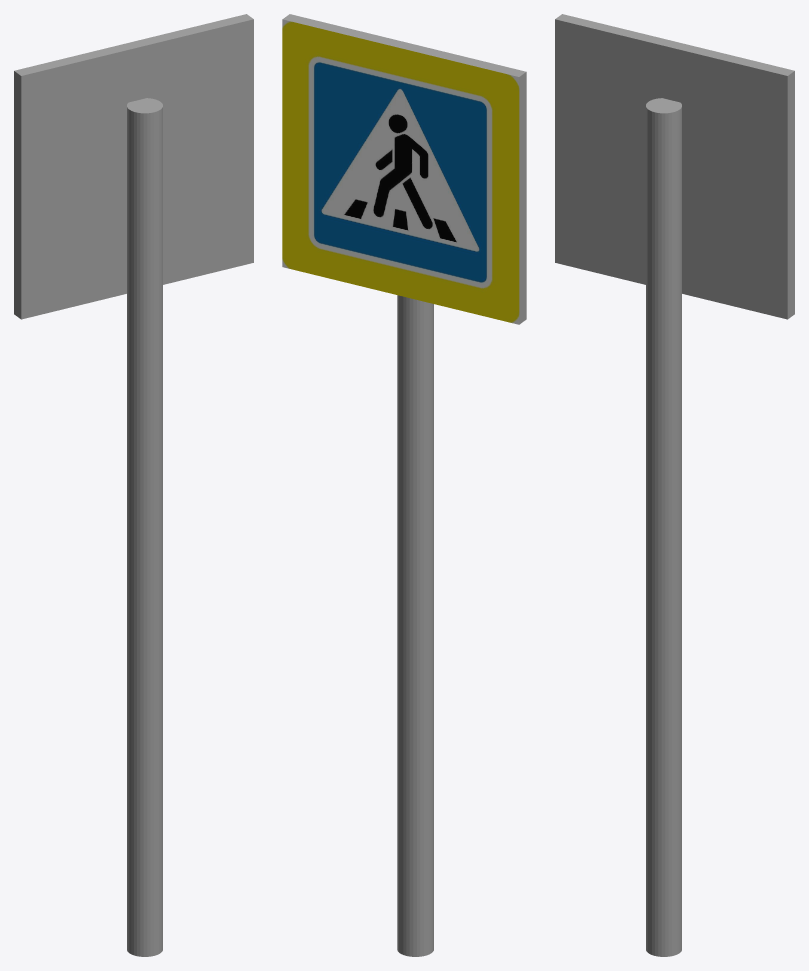
Rendered from ЗнакПешеходныйПереход.fbx.
The picture shows the model from 3 angles, left to right: view 1: azimuth 30°, elevation 25°; view 2: azimuth 150°, elevation 25°; view 3: azimuth 330°, elevation 25°; orthographic projection.
Visible parts, largest first — view 1: Cube; view 2: Cube; view 3: Cube.
Boxes of the visible parts, x1,y1,x2,y2 form: Cube: [14, 14, 253, 956]; Cube: [282, 14, 526, 956]; Cube: [555, 14, 794, 956].
Bounding box in the file's own units: 54.34 × 308 × 1135.
2 materials, 1 textured.
